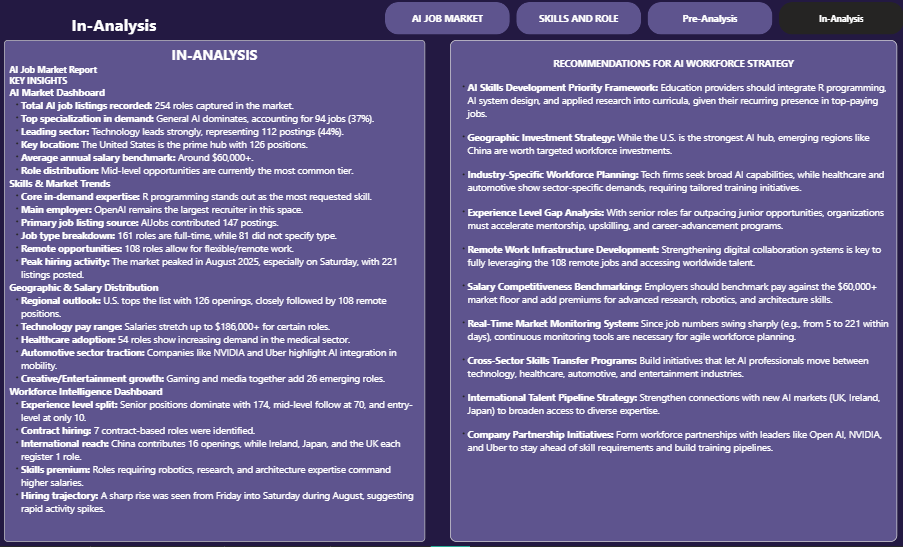

The dashboard page shown, as its layout file describes it:
{"tool":"powerbi","page":{"name":"In-Analysis","canvas":[1400,850],"ordinal":3},"visuals":[{"type":"actionButton","box":[0,0,1400,850.8],"z":0},{"type":"textbox","box":[13.1,63.9,647.5,772.1],"z":1000},{"type":"textbox","box":[700,64.1,687.5,771.9],"z":2000},{"type":"pageNavigator","box":[600,6.2,800,50.8],"z":3000},{"type":"shape","box":[60.7,0,245.9,78.7],"z":4000}]}

Visuals, with their boxes in screenshot pixels (x1, y1, x2, y2), scaled from the page's 1400x850 canvas onto the 903x547 screenshot:
actionButton: crop(0, 0, 902, 546)
textbox: crop(8, 41, 426, 538)
textbox: crop(452, 41, 895, 538)
pageNavigator: crop(387, 4, 902, 37)
shape: crop(39, 0, 198, 51)
